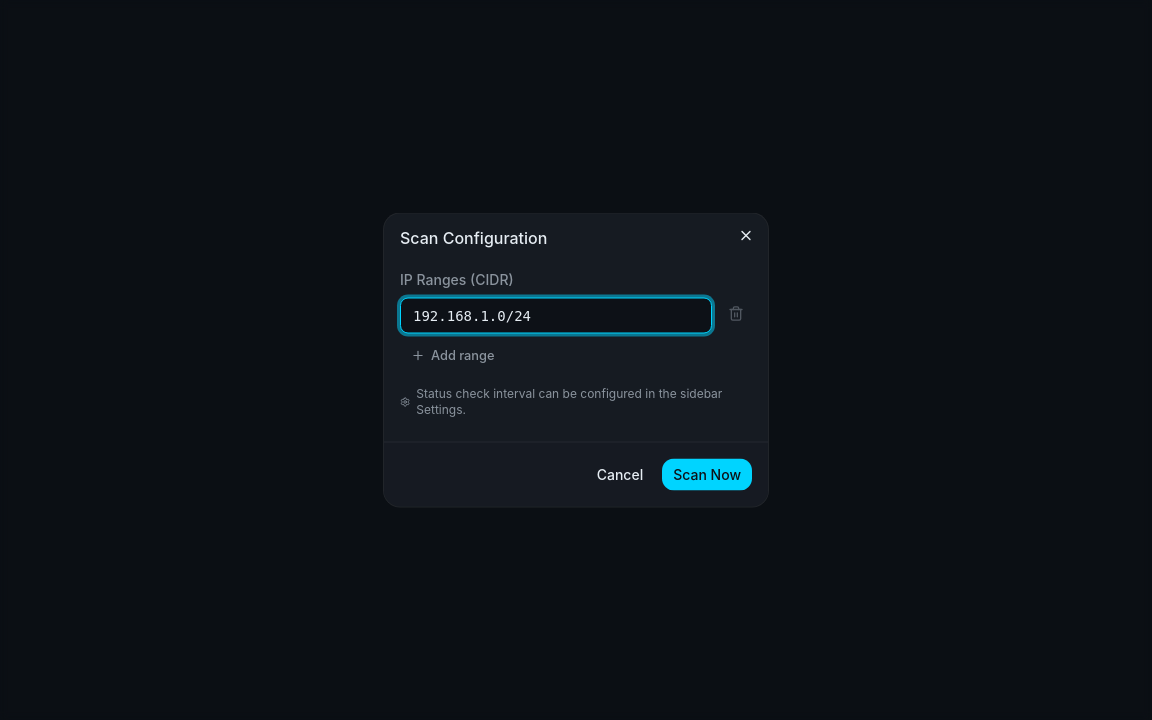
Scenario: ScanConfigModal › adds a new empty range on "Add range" click
The width and height of the screenshot is (1152, 720).
Expected: the field showing "192.168.1.0/24" is shown, top-left (400, 298), bottom-right (712, 334)
Click the button "Add range".
click(453, 356)  # box top-left (400, 342), bottom-right (506, 370)
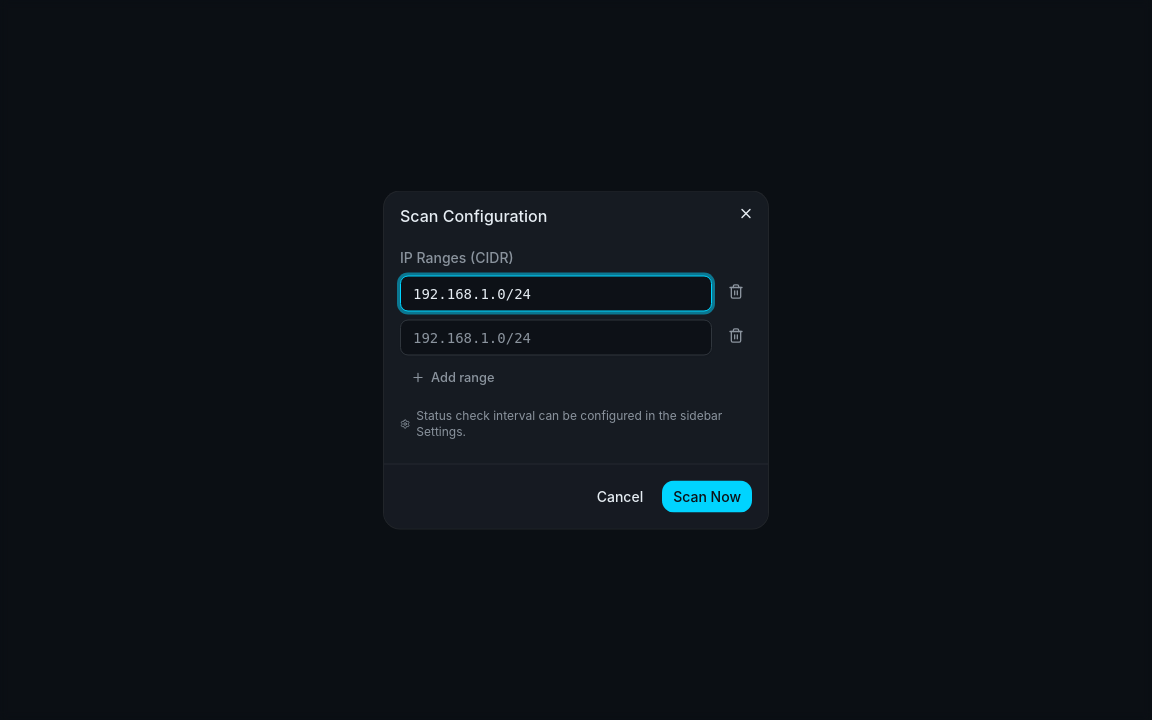
Now the number of fields with placeholder "192.168.1.0/24" is 2, box top-left (400, 276), bottom-right (712, 312); top-left (400, 320), bottom-right (712, 356)
